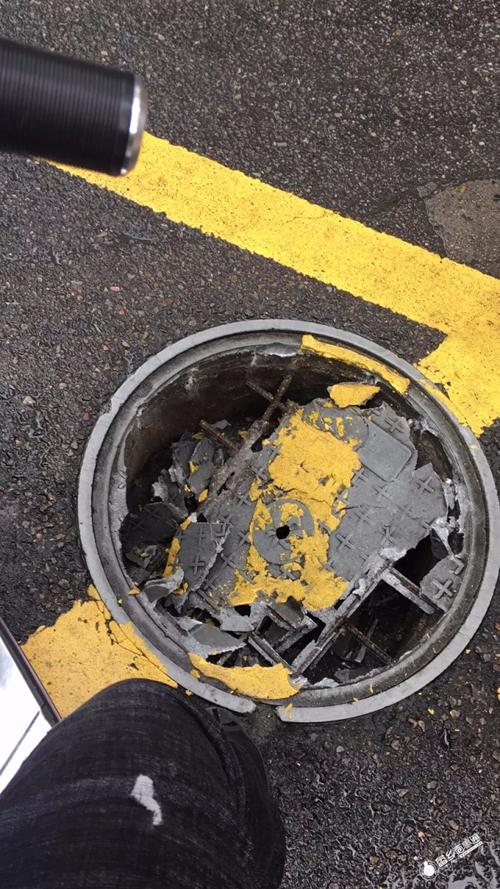broke: (56, 290, 480, 718)
